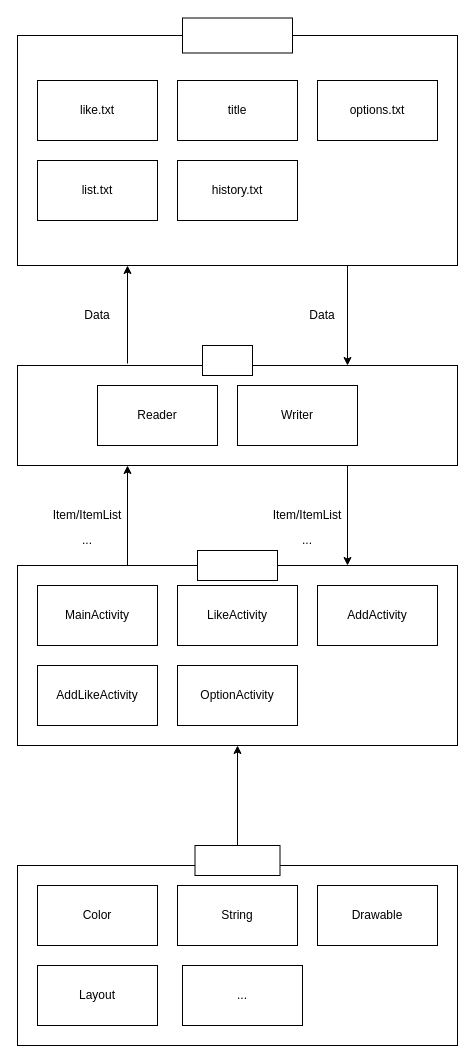
The diagram is 475 pixels wide and 1063 high, and some of its shapes have lost their labels. The shapes that lost their labels are listed below. From the top down, each one's centre as x and y in pixels, then its label:
At point (237, 35): "Internal Storage".
At point (227, 360): "IO".
At point (237, 565): "Activity".
At point (237, 860): "Resource".
